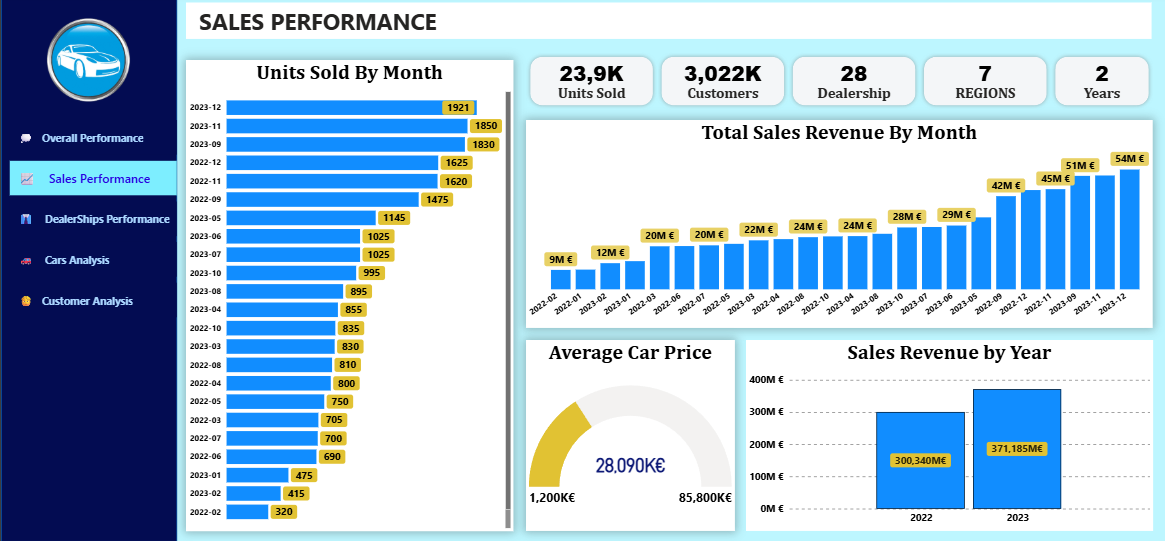

What the dashboard file says about the page in this screenshot:
{"tool":"powerbi","page":{"name":"📈    Sales Performance","canvas":[1920,900],"ordinal":1},"visuals":[{"type":"shape","box":[0,0,290,900],"z":0},{"type":"shape","box":[305.2,12.4,1590,60],"z":1000},{"type":"textbox","box":[321.2,12.4,430,60],"z":2000},{"type":"lineClusteredColumnComboChart","title":"Total Sales Revenue By Month","fields":{"Y":["Sales.Total Sales Revenue"],"Category":["DateTable.YearMonth"]},"box":[864,206,1032,342],"z":3000},{"type":"gauge","title":"Average Car Price","fields":{"Y":["Sales.Average Sale Price"],"MinValue":["Min(Sales.CAR_PRICE)"],"MaxValue":["Max(Sales.CAR_PRICE)"]},"box":[864,568,344,314],"z":4000},{"type":"lineStackedColumnComboChart","title":"Sales Revenue by Year","fields":{"Category":["DateTable.Year"],"Y":["Sales.Total Sales Revenue"]},"box":[1226,568,670,314],"z":5000},{"type":"shape","box":[864,94,216,94],"z":6000},{"type":"shape","box":[1080,94,216,94],"z":7000},{"type":"shape","box":[1296,94,216,94],"z":8000},{"type":"shape","box":[1512,94,216,94],"z":9000},{"type":"shape","box":[1728,94,168,94],"z":10000},{"type":"card","fields":{"Values":["Sales.Units Sold"]},"box":[864,82,216,94],"z":11000},{"type":"card","fields":{"Values":["Count(Sales.CUSTOMER_NAME)"]},"box":[1080,82,216,94],"z":12000},{"type":"card","fields":{"Values":["Count(Sales.DEALERSHIP_NAME)"]},"box":[1296,82,216,94],"z":13000},{"type":"card","fields":{"Values":["Count(Sales.DEALERSHIP_REGION)"]},"box":[1512,82,216,94],"z":14000},{"type":"card","fields":{"Values":["Count(DateTable.Year)"]},"box":[1728,82,168,94],"z":15000},{"type":"textbox","box":[864,142,216,46],"z":16000},{"type":"textbox","box":[1080,142,216,46],"z":17000},{"type":"textbox","box":[1512,142,216,46],"z":18000},{"type":"textbox","box":[1728,142,168,46],"z":19000},{"type":"textbox","box":[1296,142,216,46],"z":20000},{"type":"pageNavigator","box":[14,205.8,275.6,327.9],"z":21000},{"type":"image","box":[70,32.9,148.2,148.2],"z":22000},{"type":"clusteredBarChart","title":"Units Sold By Month","fields":{"Category":["DateTable.YearMonth"],"Y":["Sales.Units Sold"]},"box":[304.6,107,539.3,776],"z":22001}]}

Visuals, with their boxes in screenshot pixels (x1, y1, x2, y2), scaled from the page's 1920x900 canvas onto the 1165x541 screenshot:
shape: rect(0, 0, 176, 540)
shape: rect(185, 7, 1150, 44)
textbox: rect(195, 7, 456, 44)
"Total Sales Revenue By Month" lineClusteredColumnComboChart: rect(524, 124, 1150, 329)
"Average Car Price" gauge: rect(524, 341, 733, 530)
"Sales Revenue by Year" lineStackedColumnComboChart: rect(744, 341, 1150, 530)
shape: rect(524, 57, 655, 113)
shape: rect(655, 57, 786, 113)
shape: rect(786, 57, 917, 113)
shape: rect(917, 57, 1048, 113)
shape: rect(1048, 57, 1150, 113)
card - Sales.Units Sold: rect(524, 49, 655, 106)
card - Count(Sales.CUSTOMER_NAME): rect(655, 49, 786, 106)
card - Count(Sales.DEALERSHIP_NAME): rect(786, 49, 917, 106)
card - Count(Sales.DEALERSHIP_REGION): rect(917, 49, 1048, 106)
card - Count(DateTable.Year): rect(1048, 49, 1150, 106)
textbox: rect(524, 85, 655, 113)
textbox: rect(655, 85, 786, 113)
textbox: rect(917, 85, 1048, 113)
textbox: rect(1048, 85, 1150, 113)
textbox: rect(786, 85, 917, 113)
pageNavigator: rect(8, 124, 176, 321)
image: rect(42, 20, 132, 109)
"Units Sold By Month" clusteredBarChart: rect(185, 64, 512, 531)
